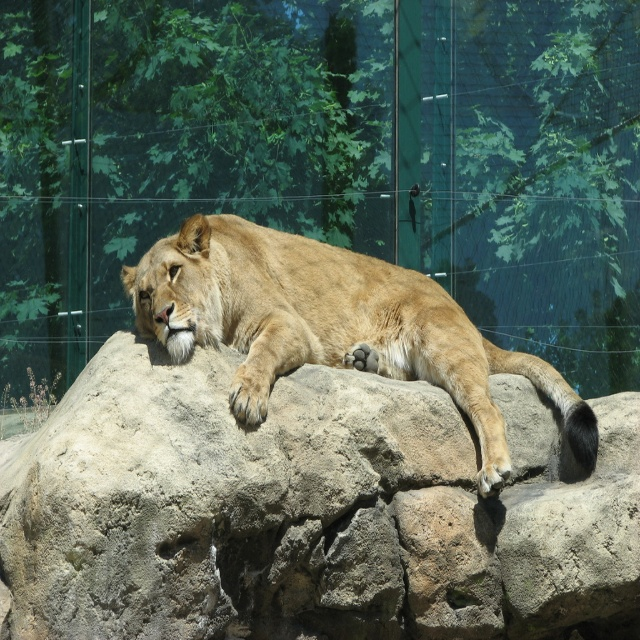Lion: (118, 213, 598, 501)
